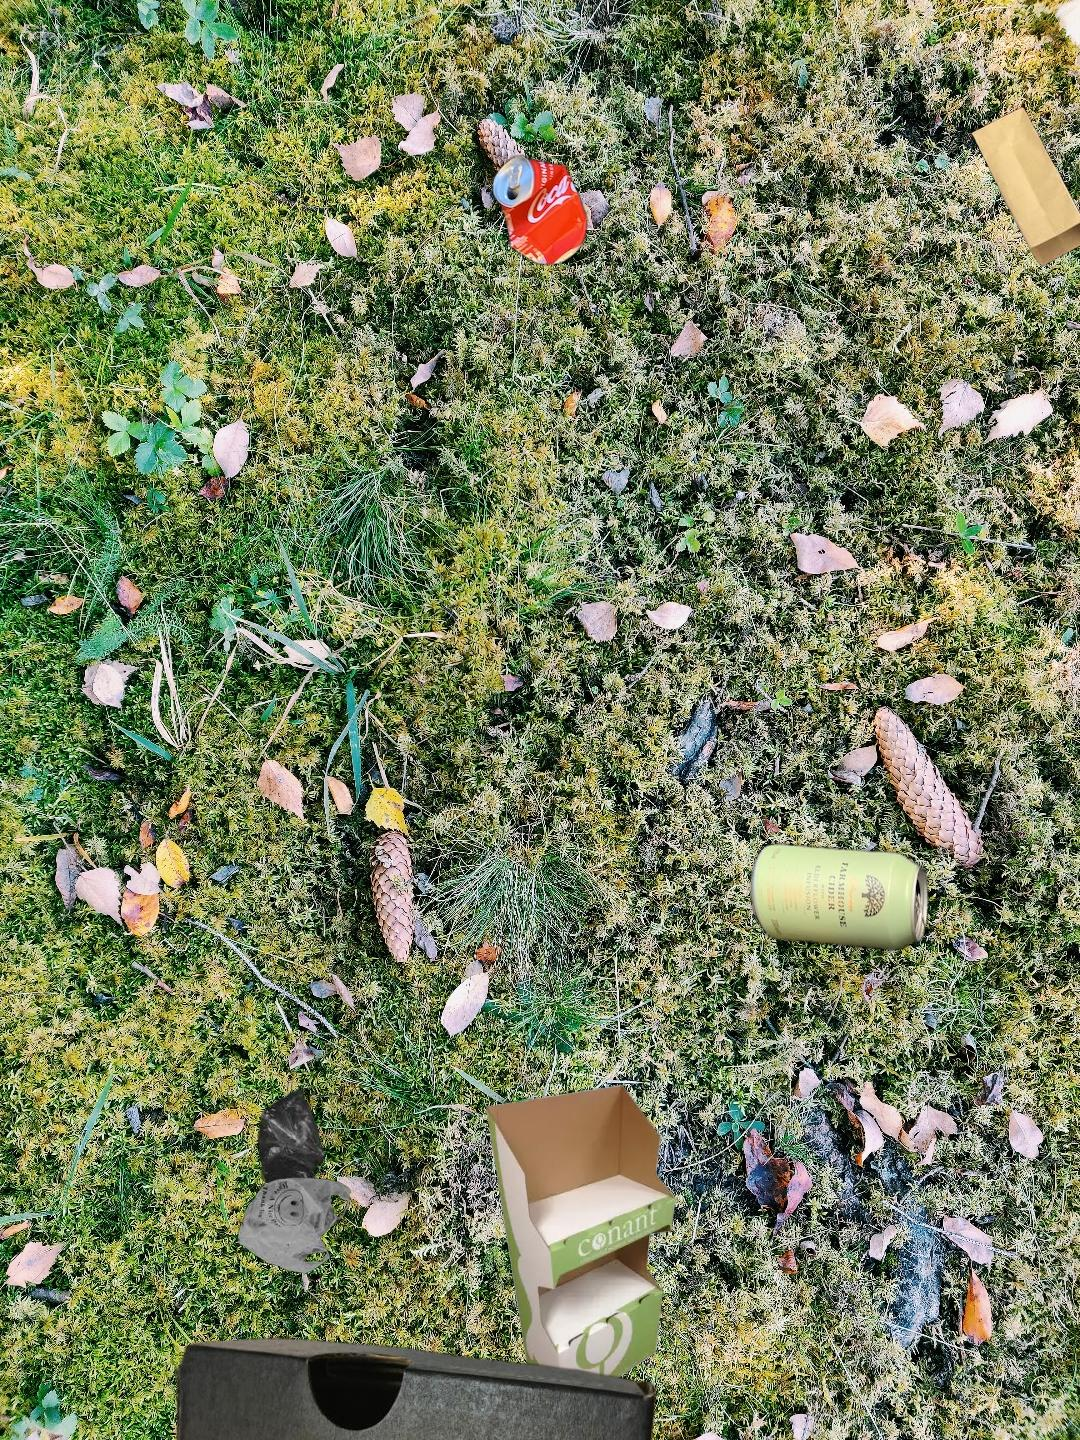metal-cans: (745, 787, 1080, 1413), (488, 149, 591, 271)
paper-bag: (968, 104, 1080, 269)
plastic-bag: (234, 1081, 354, 1274)
trashbox-cardboard: (483, 1076, 678, 1418), (168, 1335, 661, 1440)
